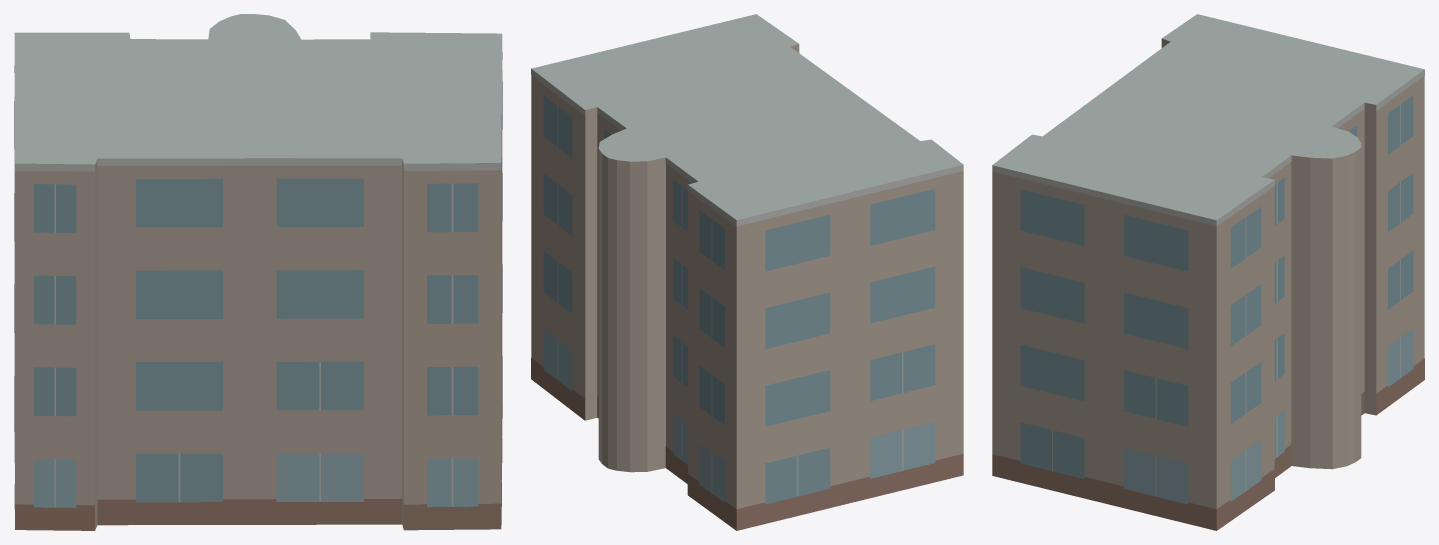
Rendered from survey-upis-32846239.glb.
3 views of the same model, side by side, from view 1: azimuth 30°, elevation 25°; view 2: azimuth 150°, elevation 25°; view 3: azimuth 270°, elevation 25° (orthographic). The views are drawn at different scales.
Visible parts, largest first — view 1: survey-upis-32846239.tmp; view 2: survey-upis-32846239.tmp; view 3: survey-upis-32846239.tmp.
Part boxes in pixels (x1,y1,x2,y2): survey-upis-32846239.tmp: (14,14,502,530); survey-upis-32846239.tmp: (531,14,963,530); survey-upis-32846239.tmp: (992,14,1424,530).
Size of the model in its own units: 17.39 by 12.2 by 15.41.
